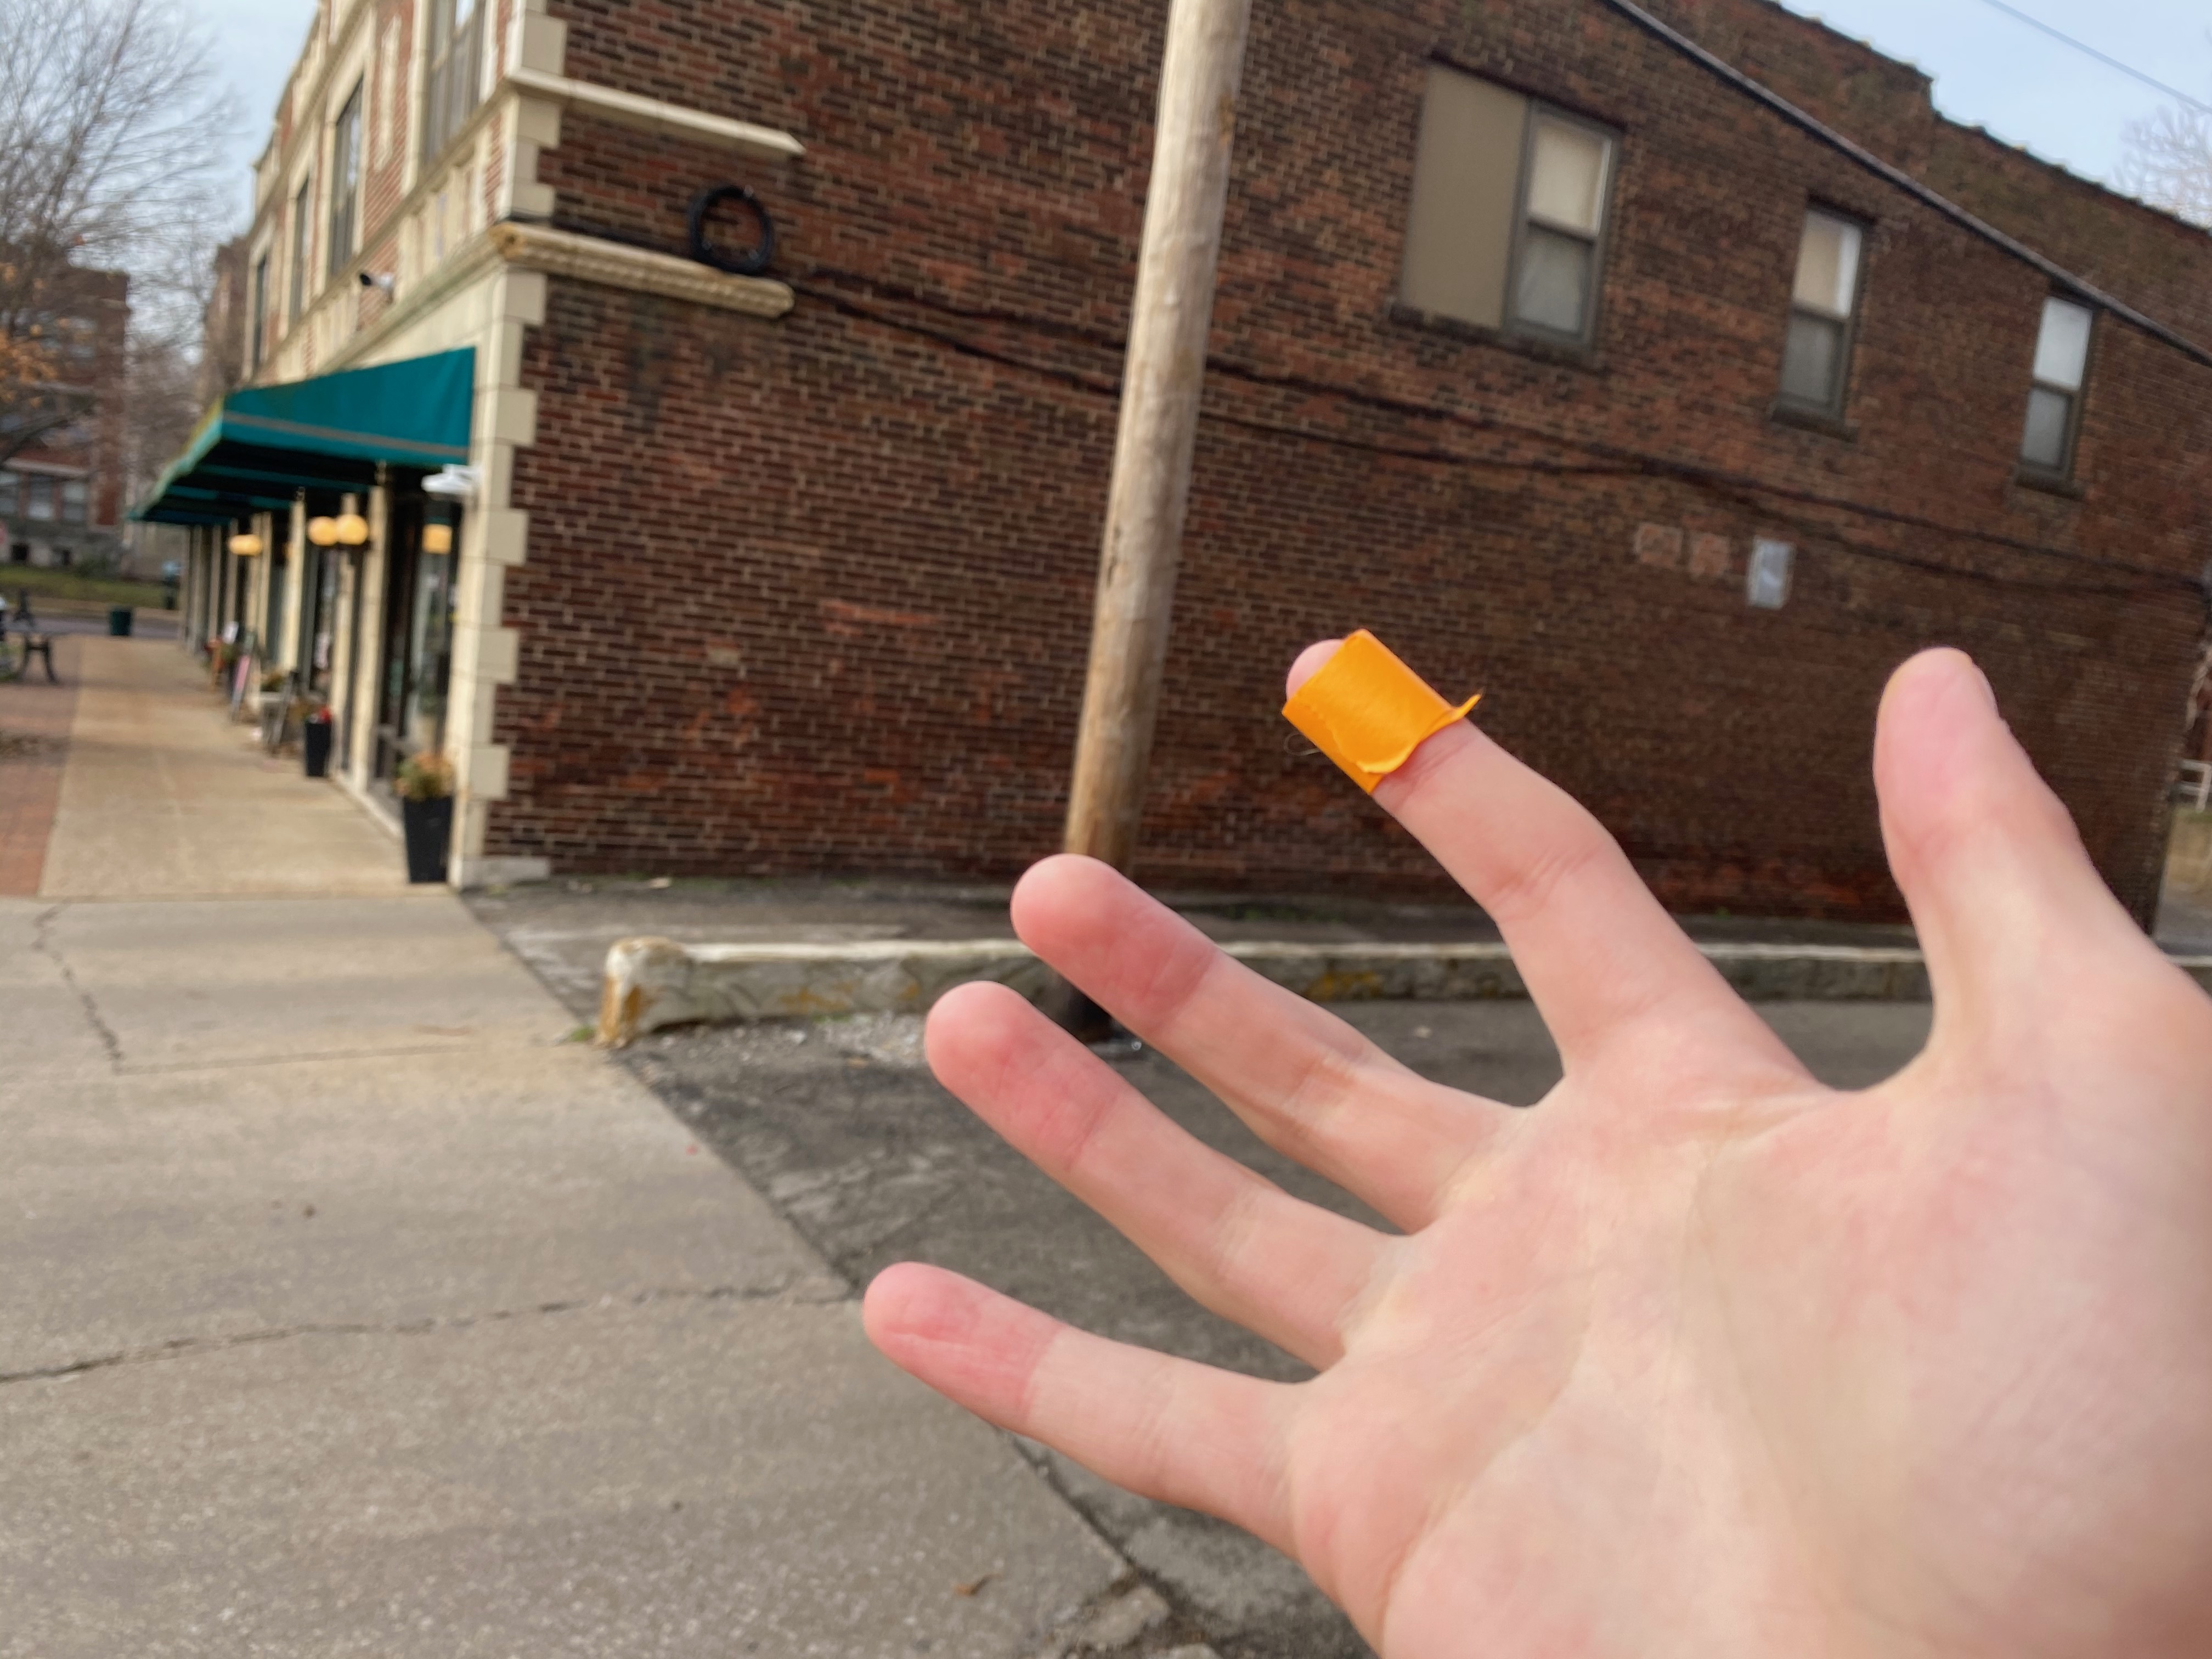fingertip: (1268, 624, 1594, 861)
